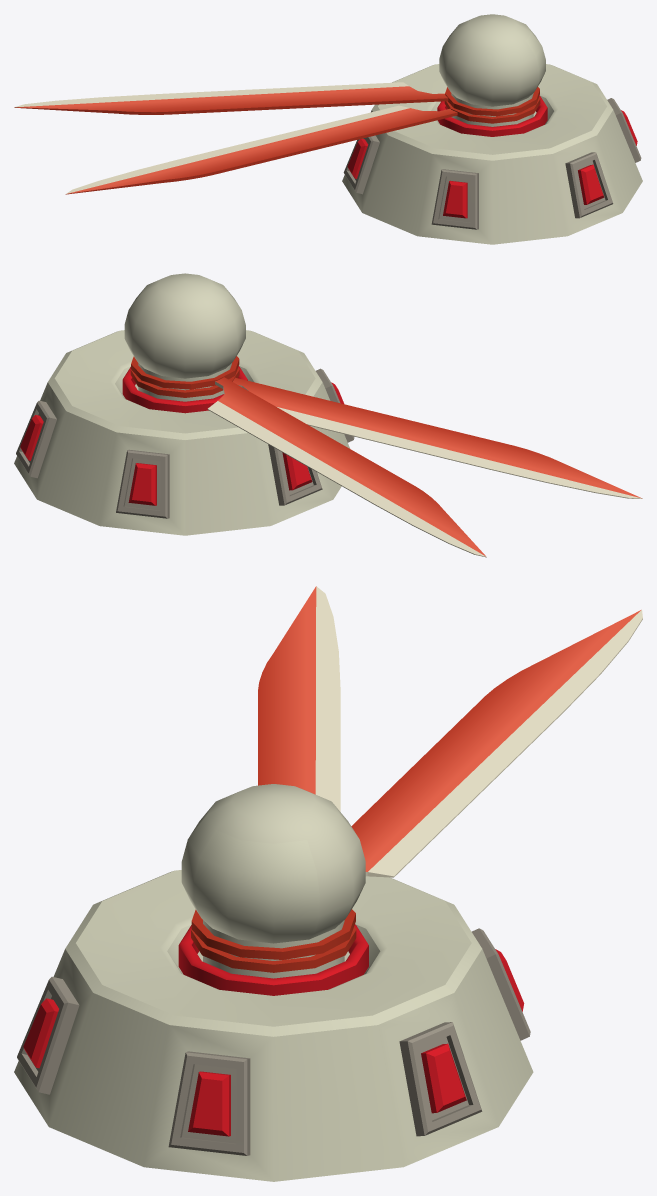
The model's file is islnd2-knife2.fbx.
3 renders of one model, top to bottom at view 1: azimuth 30°, elevation 25°; view 2: azimuth 150°, elevation 25°; view 3: azimuth 270°, elevation 25°, orthographic. The views are drawn at different scales.
Parts seen in each view (by area): view 1: knife-model2, knife-model2.02, knife-model2.01; view 2: knife-model2, knife-model2.02, knife-model2.01; view 3: knife-model2, knife-model2.02, knife-model2.01.
Boxes of the visible parts, x1,y1,x2,y2 form: knife-model2: (342, 14, 642, 244); knife-model2.02: (14, 82, 539, 116); knife-model2.01: (65, 97, 540, 194); knife-model2: (14, 273, 354, 535); knife-model2.02: (131, 356, 486, 557); knife-model2.01: (130, 367, 642, 498); knife-model2: (14, 784, 533, 1181); knife-model2.02: (191, 609, 642, 959); knife-model2.01: (191, 586, 356, 972).
Bounding box in the file's own units: 8.99 × 2.52 × 5.21.
1 material, 1 textured.
